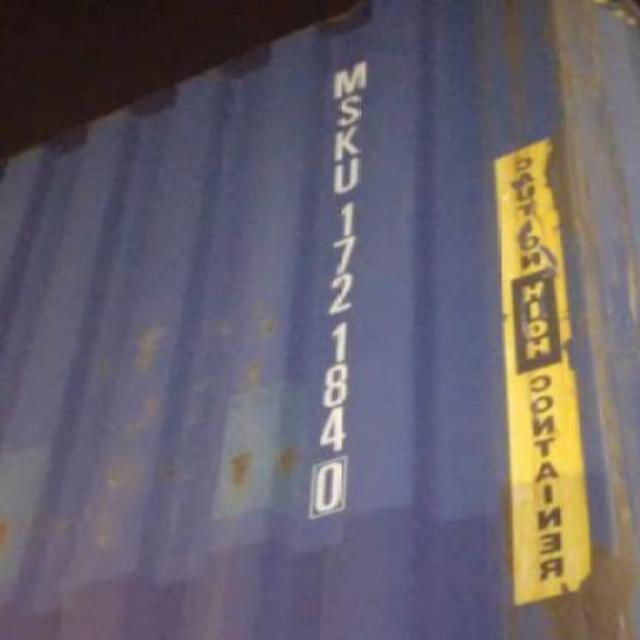0: (310, 456, 350, 514)
1: (322, 314, 354, 362), (332, 193, 358, 237)
2: (326, 271, 359, 315)
4: (318, 405, 350, 449)
7: (328, 238, 364, 272)
8: (322, 362, 358, 408)
K: (332, 124, 360, 160)
M: (328, 56, 368, 94)
S: (332, 94, 372, 126)
U: (330, 157, 362, 195)
